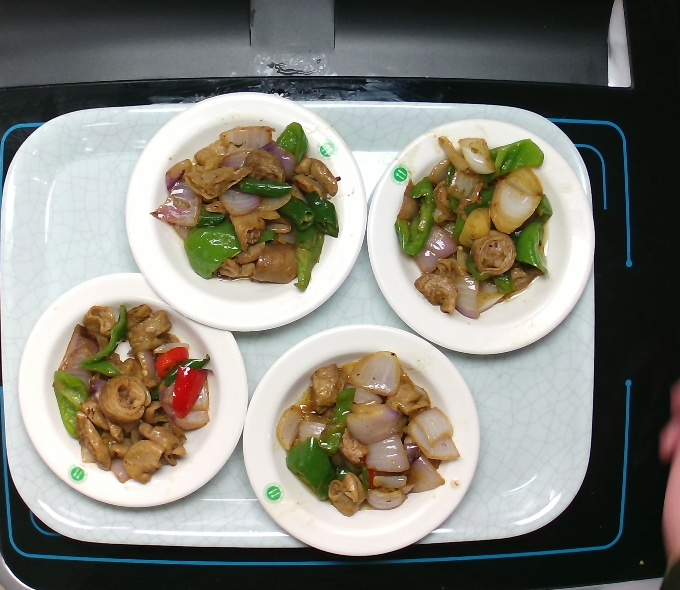wcq-QingJiaoChaoDaChang: (148, 113, 349, 291), (40, 295, 226, 486), (274, 339, 460, 530), (390, 131, 576, 322)
